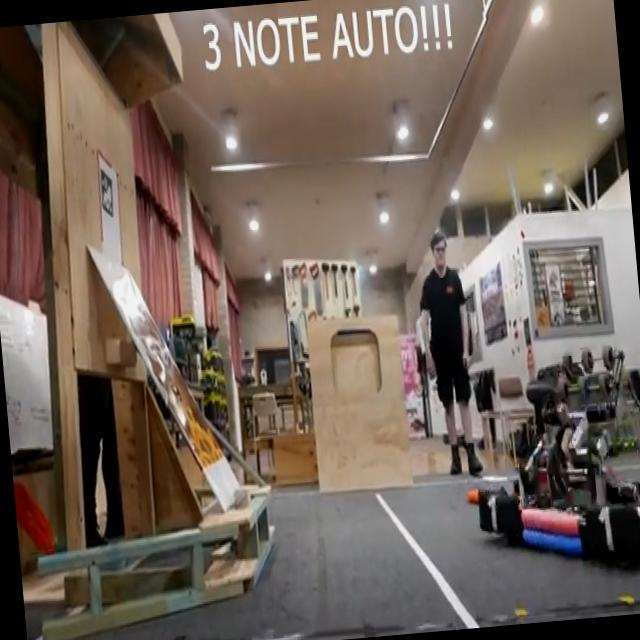note: (13, 481, 53, 552)
